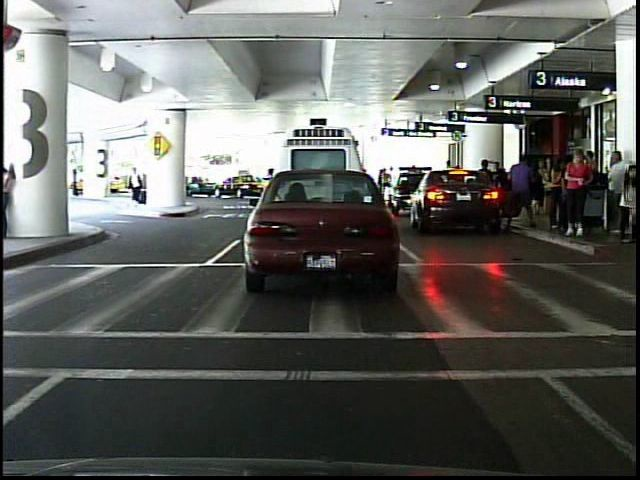person: (561, 146, 597, 243), (123, 161, 153, 210), (69, 163, 84, 201)
